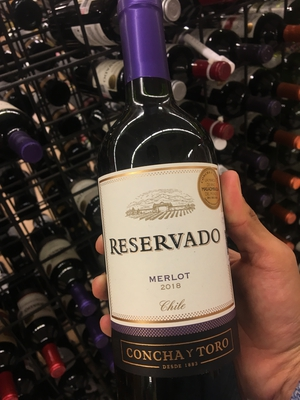reservado merlot: (92, 14, 248, 400)
